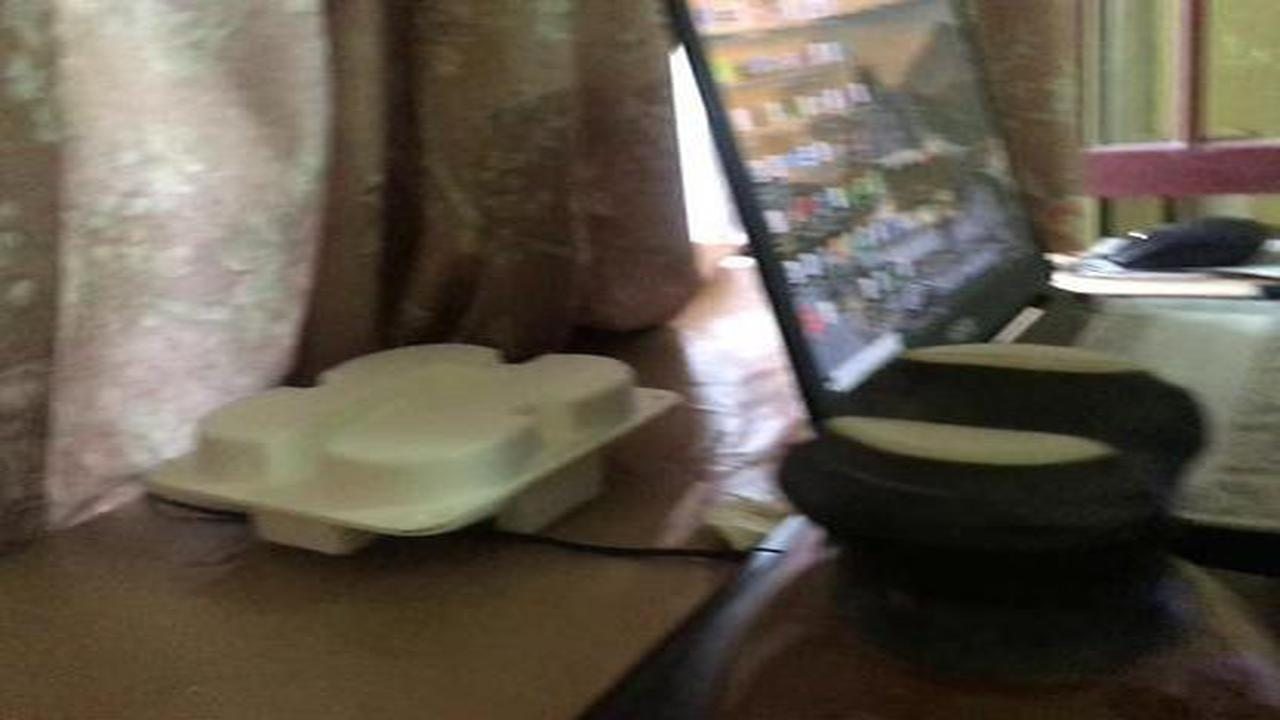insulator_pin: (702, 309, 1274, 714)
